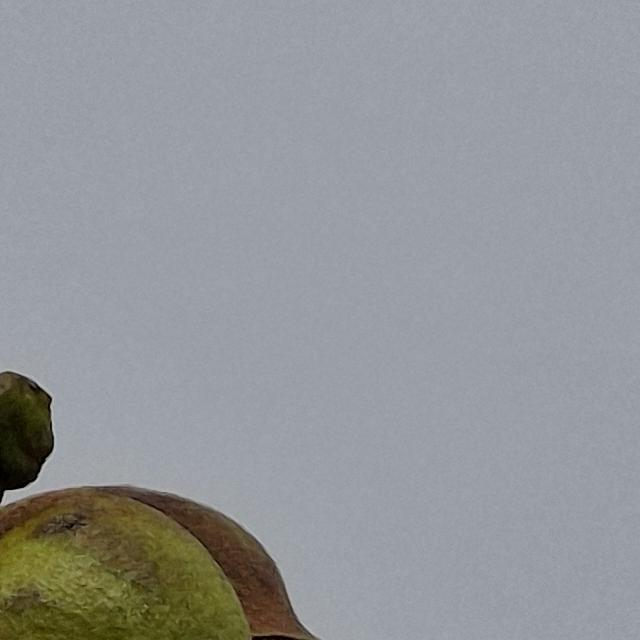mangosteen: (0, 295, 640, 640)
